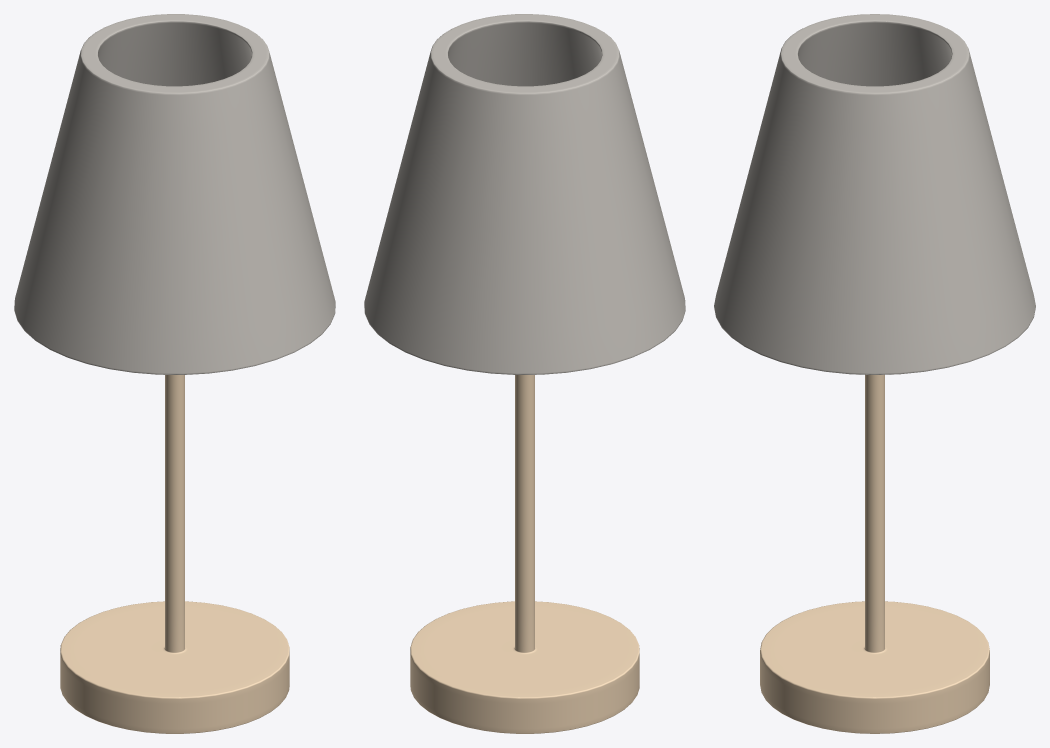
The model's file is Lamp.fbx.
3 renders of one model, left to right at view 1: azimuth 30°, elevation 25°; view 2: azimuth 150°, elevation 25°; view 3: azimuth 270°, elevation 25°, orthographic.
Visible parts, largest first — view 1: Lamp1; view 2: Lamp1; view 3: Lamp1.
Part boxes in pixels (x1,y1,x2,y2): Lamp1: (14,14,335,733); Lamp1: (364,14,685,733); Lamp1: (714,14,1035,733).
Size of the model in its own units: 252 by 547 by 252.
